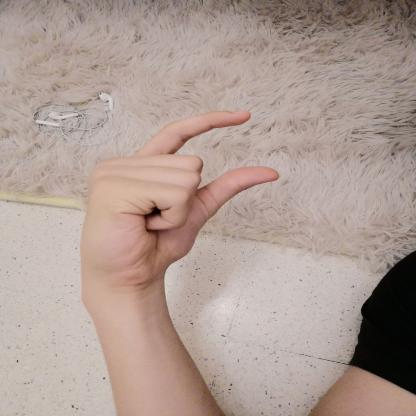DELL: (62, 101, 290, 298)
